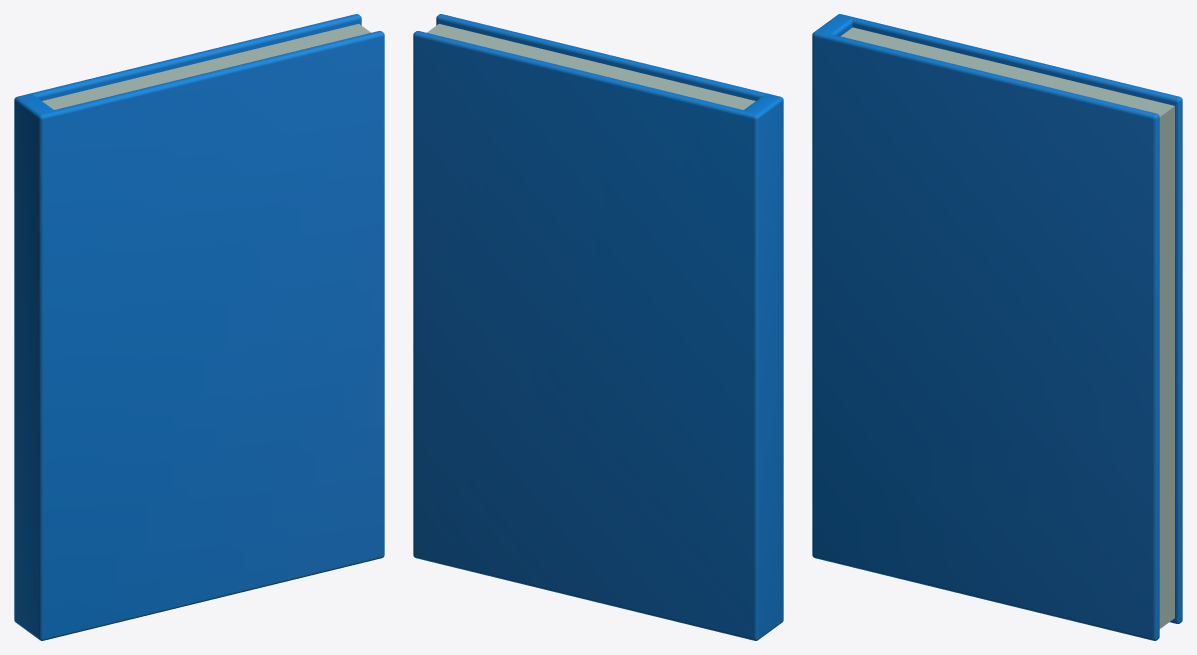
The picture shows the model from 3 angles, left to right: view 1: azimuth 30°, elevation 25°; view 2: azimuth 150°, elevation 25°; view 3: azimuth 330°, elevation 25°; orthographic projection.
Parts seen in each view (by area): view 1: front_cover, spine, pages, back_cover; view 2: back_cover, spine, pages, front_cover; view 3: front_cover, pages, back_cover, spine.
Part boxes in pixels (x1,y1,x2,y2): front_cover: [38, 31, 384, 640]; spine: [14, 94, 56, 640]; pages: [42, 24, 370, 109]; back_cover: [14, 14, 361, 100]; back_cover: [413, 31, 759, 640]; spine: [741, 94, 783, 640]; pages: [427, 24, 755, 109]; front_cover: [436, 14, 783, 100]; front_cover: [812, 31, 1159, 640]; pages: [841, 27, 1174, 628]; back_cover: [838, 14, 1182, 623]; spine: [812, 14, 852, 560].
Bounding box in the file's own units: 0.2061 × 0.3 × 0.0289.
